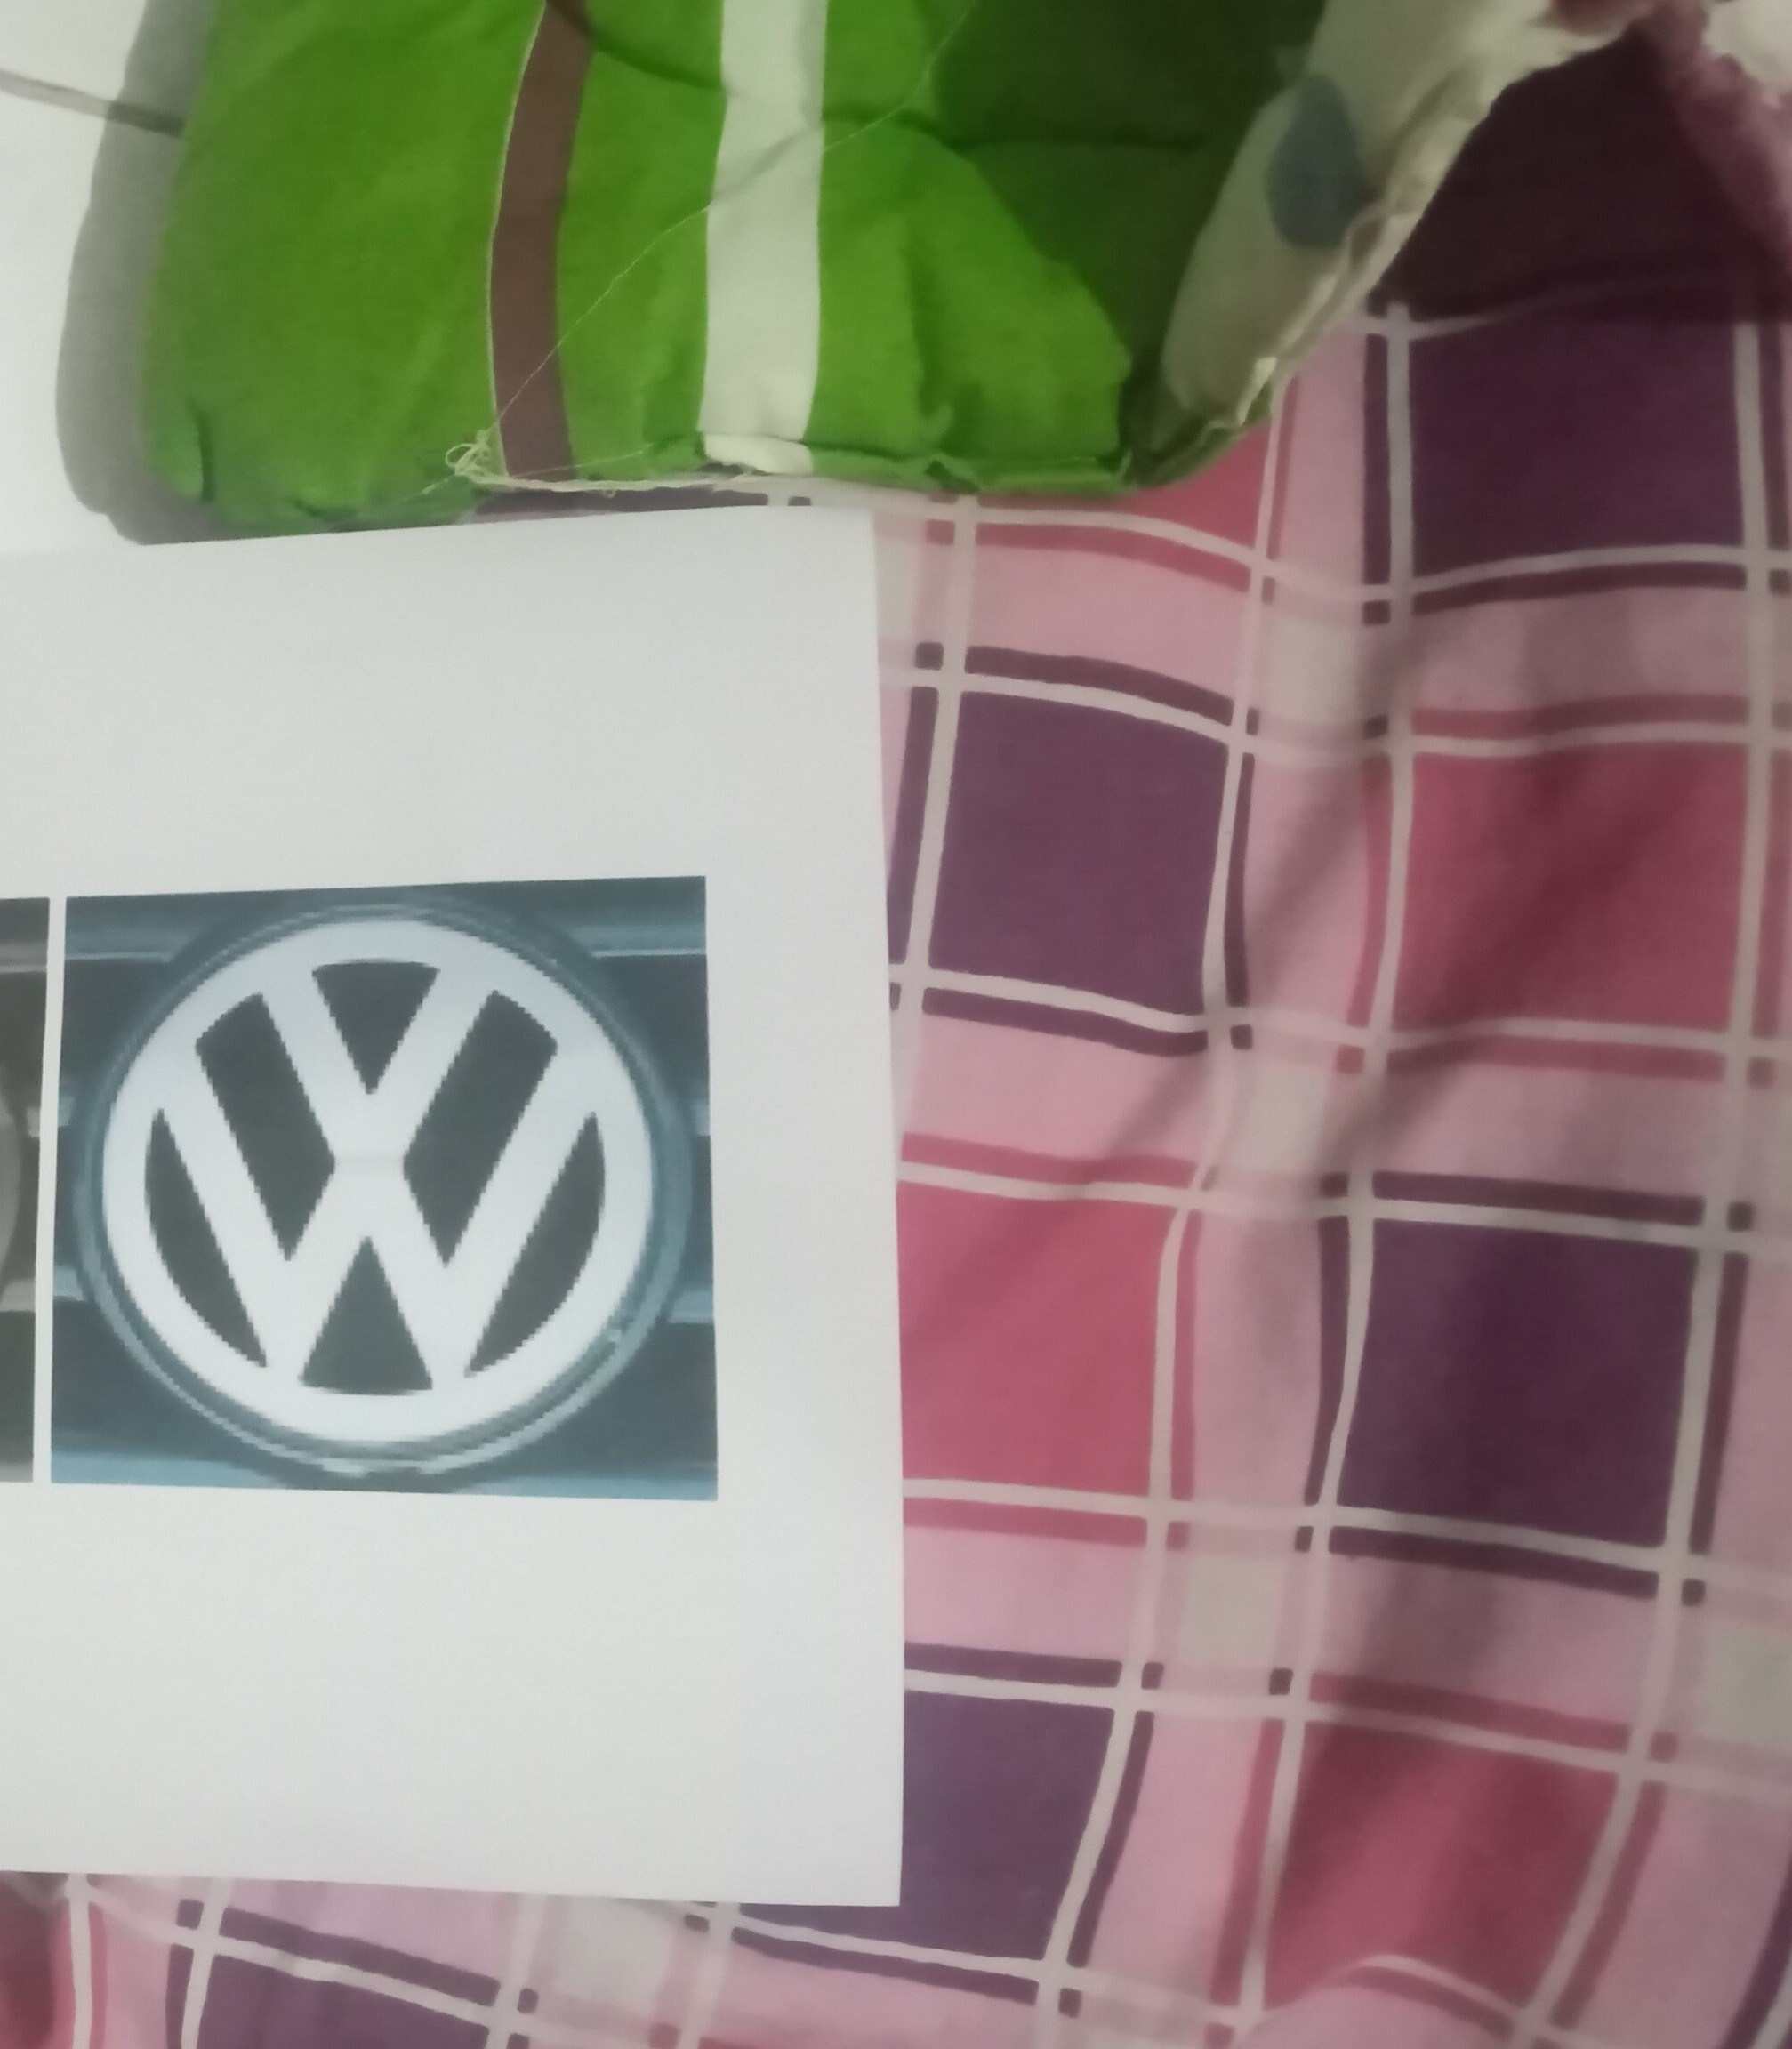Volkswagen: (56, 896, 696, 1502)
